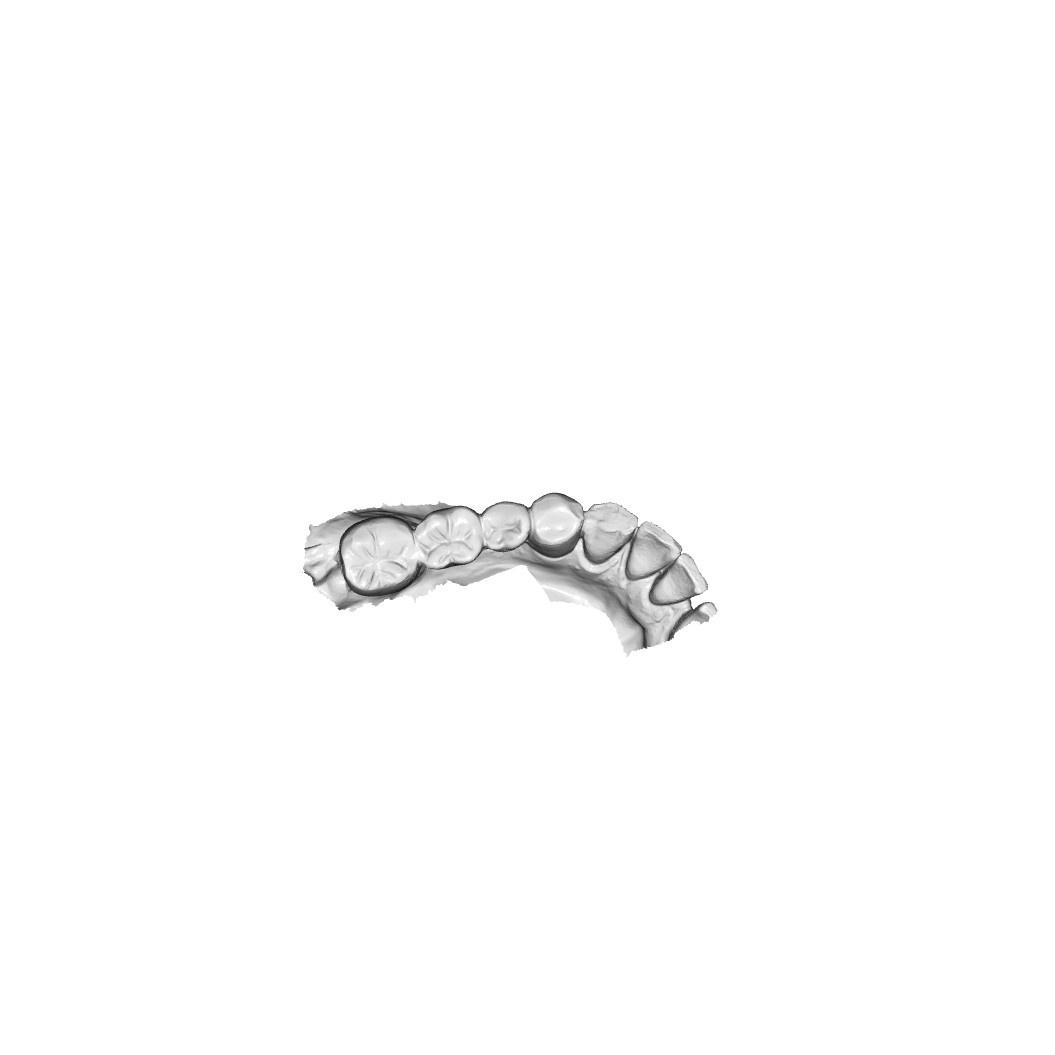canine: (579, 497, 637, 568)
incisor: (623, 520, 682, 585), (647, 554, 707, 605)
molar: (337, 513, 418, 597), (413, 503, 484, 571)
premolar: (528, 490, 580, 556), (480, 499, 532, 554)
